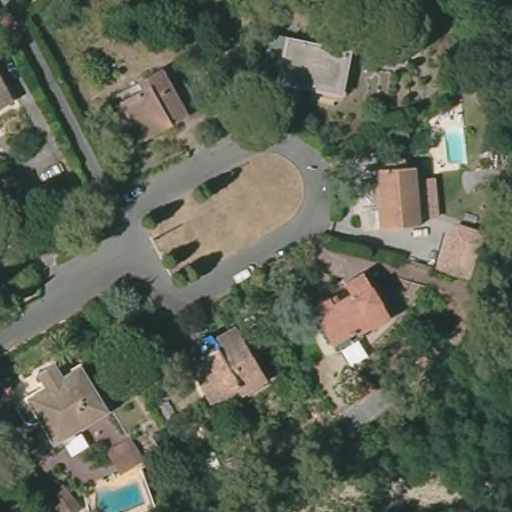pool: (88, 477, 151, 512), (443, 125, 471, 165), (185, 336, 225, 362)
